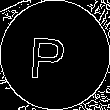P_N: (35, 29, 75, 81)
